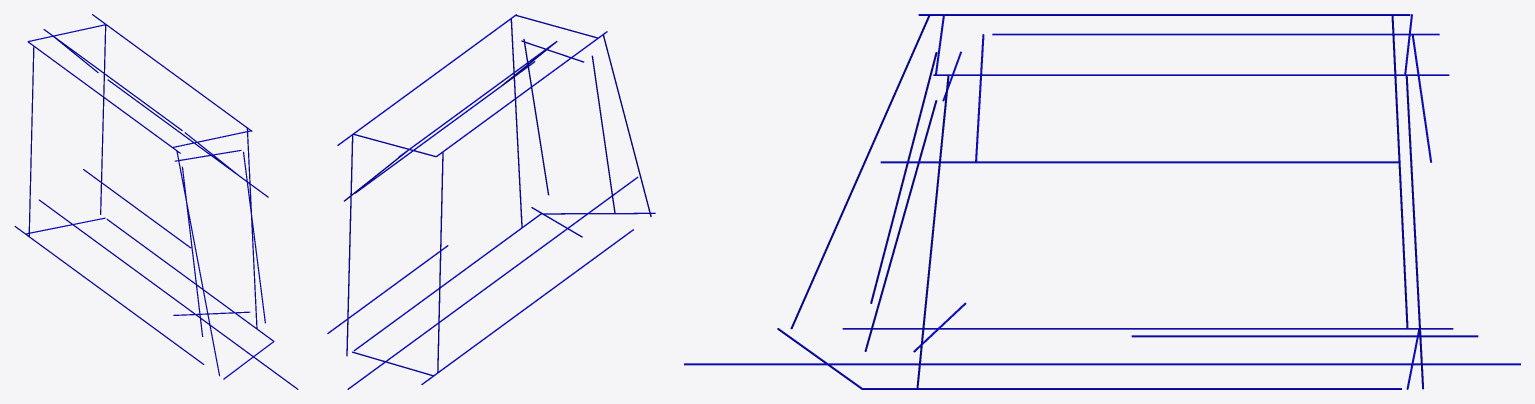
The model's file is corrected_3d_strokes.glb.
3 views of the same model, side by side, from view 1: azimuth 30°, elevation 25°; view 2: azimuth 150°, elevation 25°; view 3: azimuth 270°, elevation 25° (orthographic). The views are drawn at different scales.
Parts seen in each view (by area): view 1: world; view 2: world; view 3: world.
Boxes of the visible parts, bbox=[...] form: world: bbox=[14, 14, 298, 389]; world: bbox=[327, 14, 655, 389]; world: bbox=[684, 14, 1520, 389].
Size of the model in its own units: 2.78 by 6.7 by 16.1.
